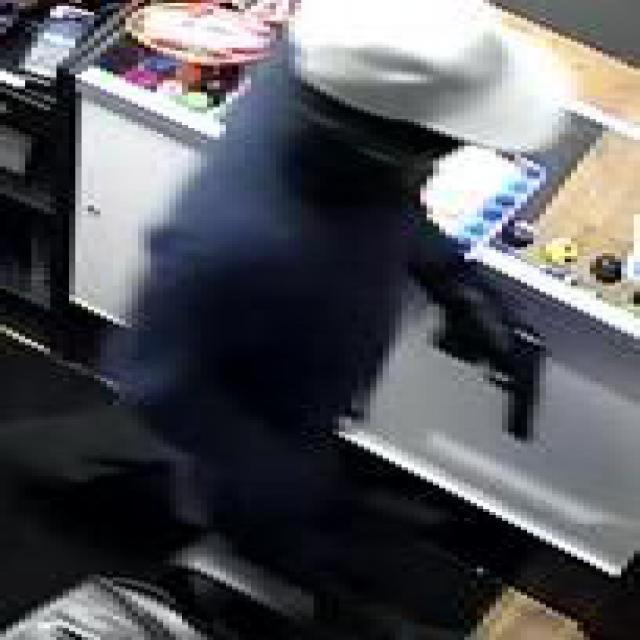weapon: (474, 316, 551, 448)
